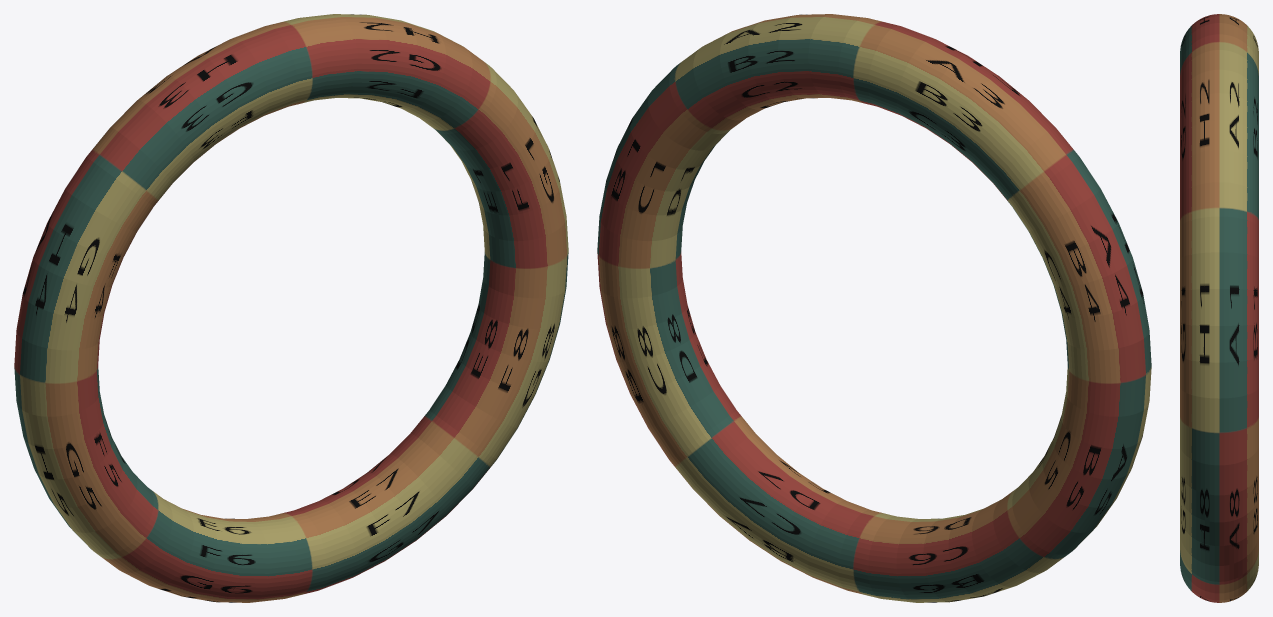
Rendered from texture_torus_R7_r1.glb.
3 views of the same model, side by side, from view 1: azimuth 30°, elevation 25°; view 2: azimuth 150°, elevation 25°; view 3: azimuth 270°, elevation 25° (orthographic). The views are drawn at different scales.
Visible parts, largest first — view 1: world; view 2: world; view 3: world.
Part boxes in pixels (<box>): world: <box>14,14,568,602</box>; world: <box>597,14,1151,602</box>; world: <box>1180,14,1258,602</box>.
Size of the model in its own units: 16.93 by 16.9 by 2.26.
Materials: 1 (1 with a texture image).
